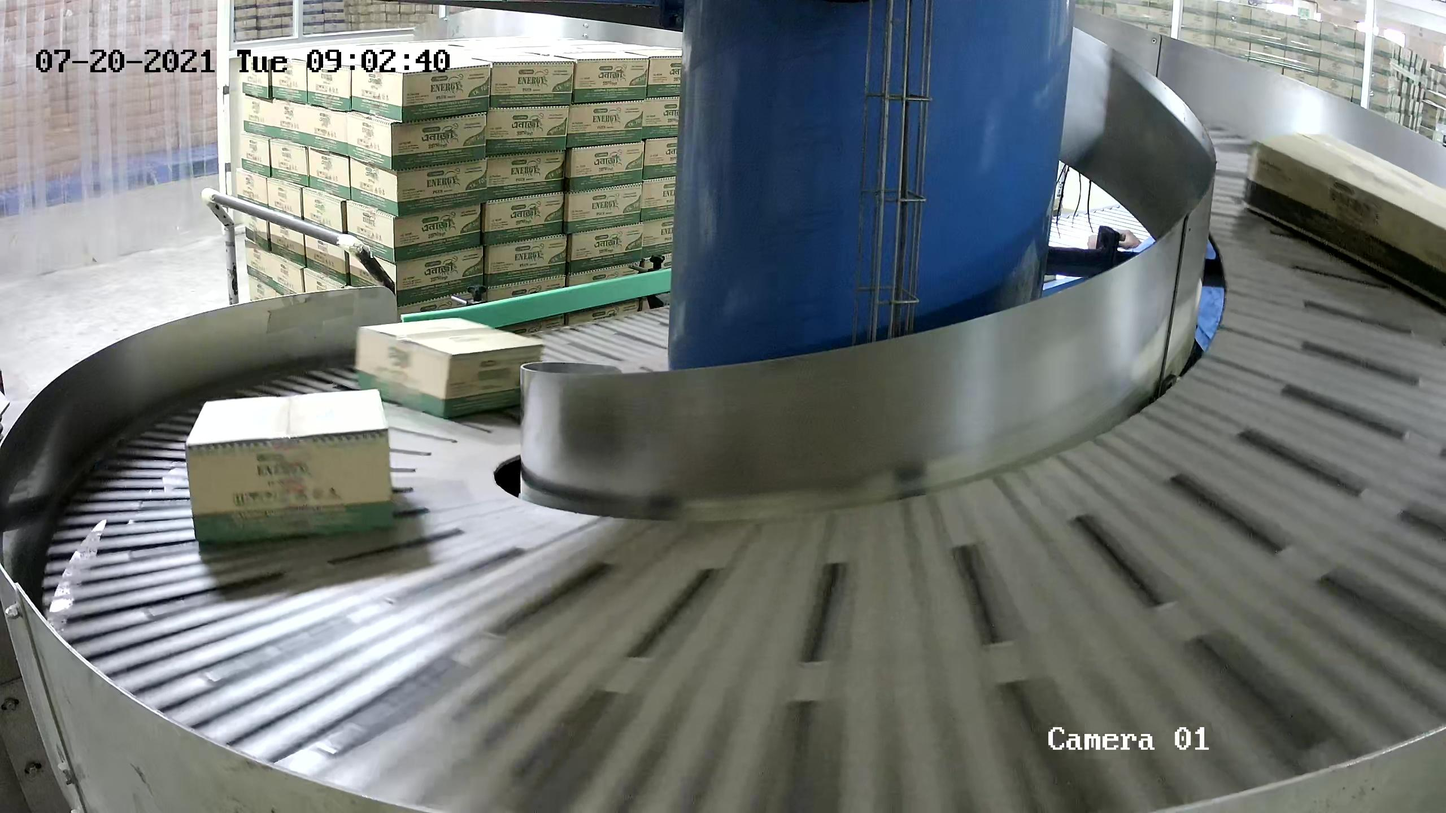Box: (1240, 132, 1446, 320), (184, 388, 398, 545), (355, 317, 545, 420)
